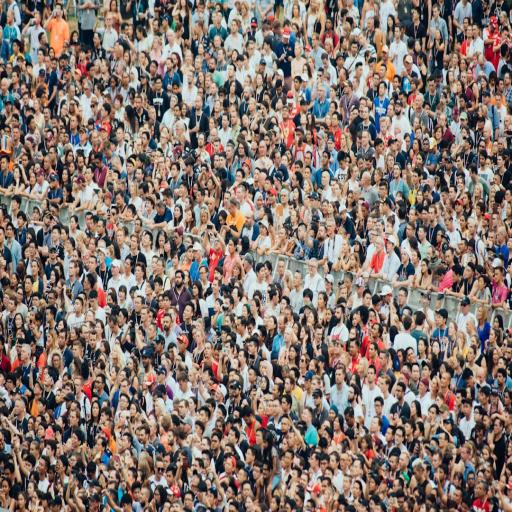face: (126, 319, 164, 371), (118, 196, 138, 251), (134, 488, 145, 504), (348, 341, 358, 358), (342, 475, 352, 491), (14, 400, 24, 416), (58, 331, 66, 350), (245, 496, 254, 512), (206, 198, 215, 214), (204, 342, 212, 360), (137, 429, 147, 443), (412, 365, 420, 382), (353, 482, 361, 498), (332, 182, 340, 198), (179, 401, 187, 417), (135, 265, 143, 281), (419, 382, 428, 396), (497, 231, 506, 245), (302, 410, 311, 424), (428, 407, 437, 421), (475, 483, 484, 497), (399, 290, 407, 305), (372, 324, 380, 339), (395, 430, 403, 445), (350, 255, 358, 270), (367, 368, 375, 383), (494, 419, 502, 434), (212, 280, 220, 295), (363, 293, 371, 308), (225, 458, 233, 473), (336, 369, 344, 384), (467, 473, 475, 487), (25, 279, 32, 295), (228, 240, 236, 254), (70, 116, 77, 132), (379, 353, 387, 367), (441, 373, 449, 387), (156, 260, 164, 274), (318, 226, 326, 240), (380, 118, 387, 134), (484, 125, 491, 140), (429, 207, 436, 222), (92, 402, 99, 417), (446, 217, 453, 232), (212, 437, 219, 452), (340, 134, 347, 149), (195, 96, 202, 111), (278, 260, 285, 275), (85, 168, 92, 183), (259, 141, 266, 156), (278, 317, 285, 332), (342, 240, 350, 253), (375, 239, 383, 252), (414, 467, 422, 480), (461, 303, 469, 316), (74, 378, 82, 391), (415, 96, 422, 110), (18, 493, 25, 507), (175, 273, 182, 287), (281, 189, 288, 203), (419, 339, 426, 353), (394, 165, 401, 179), (309, 263, 317, 275), (200, 267, 208, 279), (334, 415, 340, 431), (55, 4, 62, 17), (293, 188, 300, 201), (2, 481, 9, 494), (164, 241, 171, 254), (497, 373, 504, 386), (421, 260, 428, 273), (12, 127, 19, 140), (175, 233, 182, 246), (395, 104, 402, 117), (371, 418, 378, 431), (422, 140, 429, 153), (106, 13, 113, 26), (396, 387, 403, 400), (117, 128, 124, 141), (125, 260, 131, 275), (111, 265, 119, 276), (21, 155, 29, 166), (505, 346, 511, 360), (387, 242, 394, 254), (362, 132, 368, 146), (238, 144, 245, 156), (361, 107, 368, 119), (8, 299, 15, 311), (201, 211, 208, 223), (141, 134, 148, 146), (293, 5, 299, 19), (6, 226, 13, 238), (70, 218, 77, 230), (130, 405, 137, 417), (96, 379, 104, 389), (231, 21, 237, 34), (325, 113, 331, 126), (318, 87, 324, 100), (129, 182, 135, 195), (295, 43, 301, 56), (181, 105, 187, 118), (32, 262, 38, 275), (174, 106, 180, 118), (395, 25, 400, 39), (495, 94, 502, 104), (506, 204, 511, 218), (251, 301, 257, 312), (51, 271, 56, 283), (193, 285, 198, 296), (322, 153, 328, 162)
